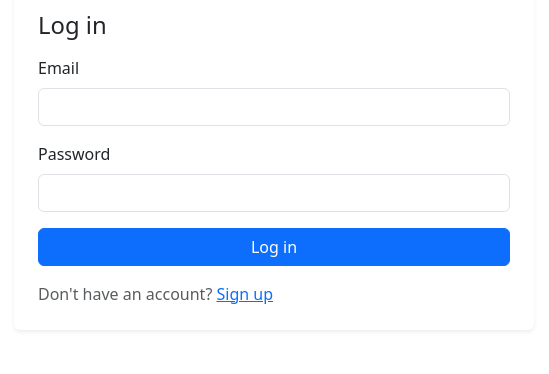
it: LoginPage › shows validation error when password is less than 8 characters
The image size is (549, 374).
Type "test@example.com" into the field labelled "Email".
click(274, 107); type("test@example.com")  # box [38, 88, 510, 126]
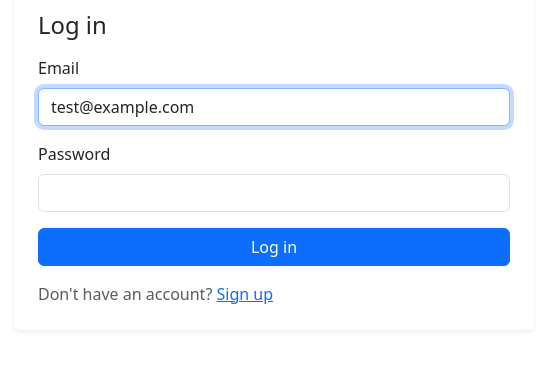
Type "short" into the password field labelled "Password".
click(274, 193); type("short")  # box [38, 174, 510, 212]
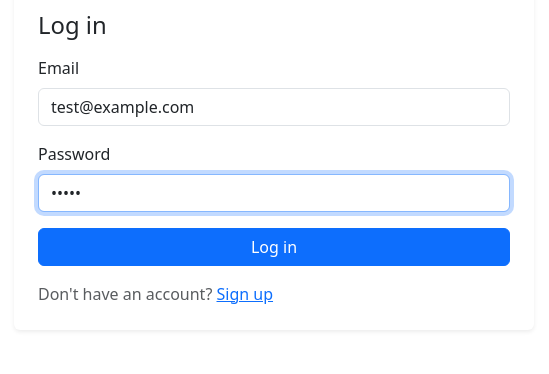
Click the button "Log in".
click(274, 247)  # box [38, 228, 510, 266]
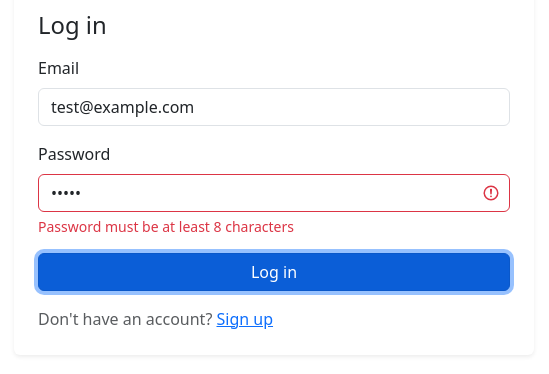
expect the text "Password must be at least 8 characters" is shown: met, box [38, 217, 294, 236]
